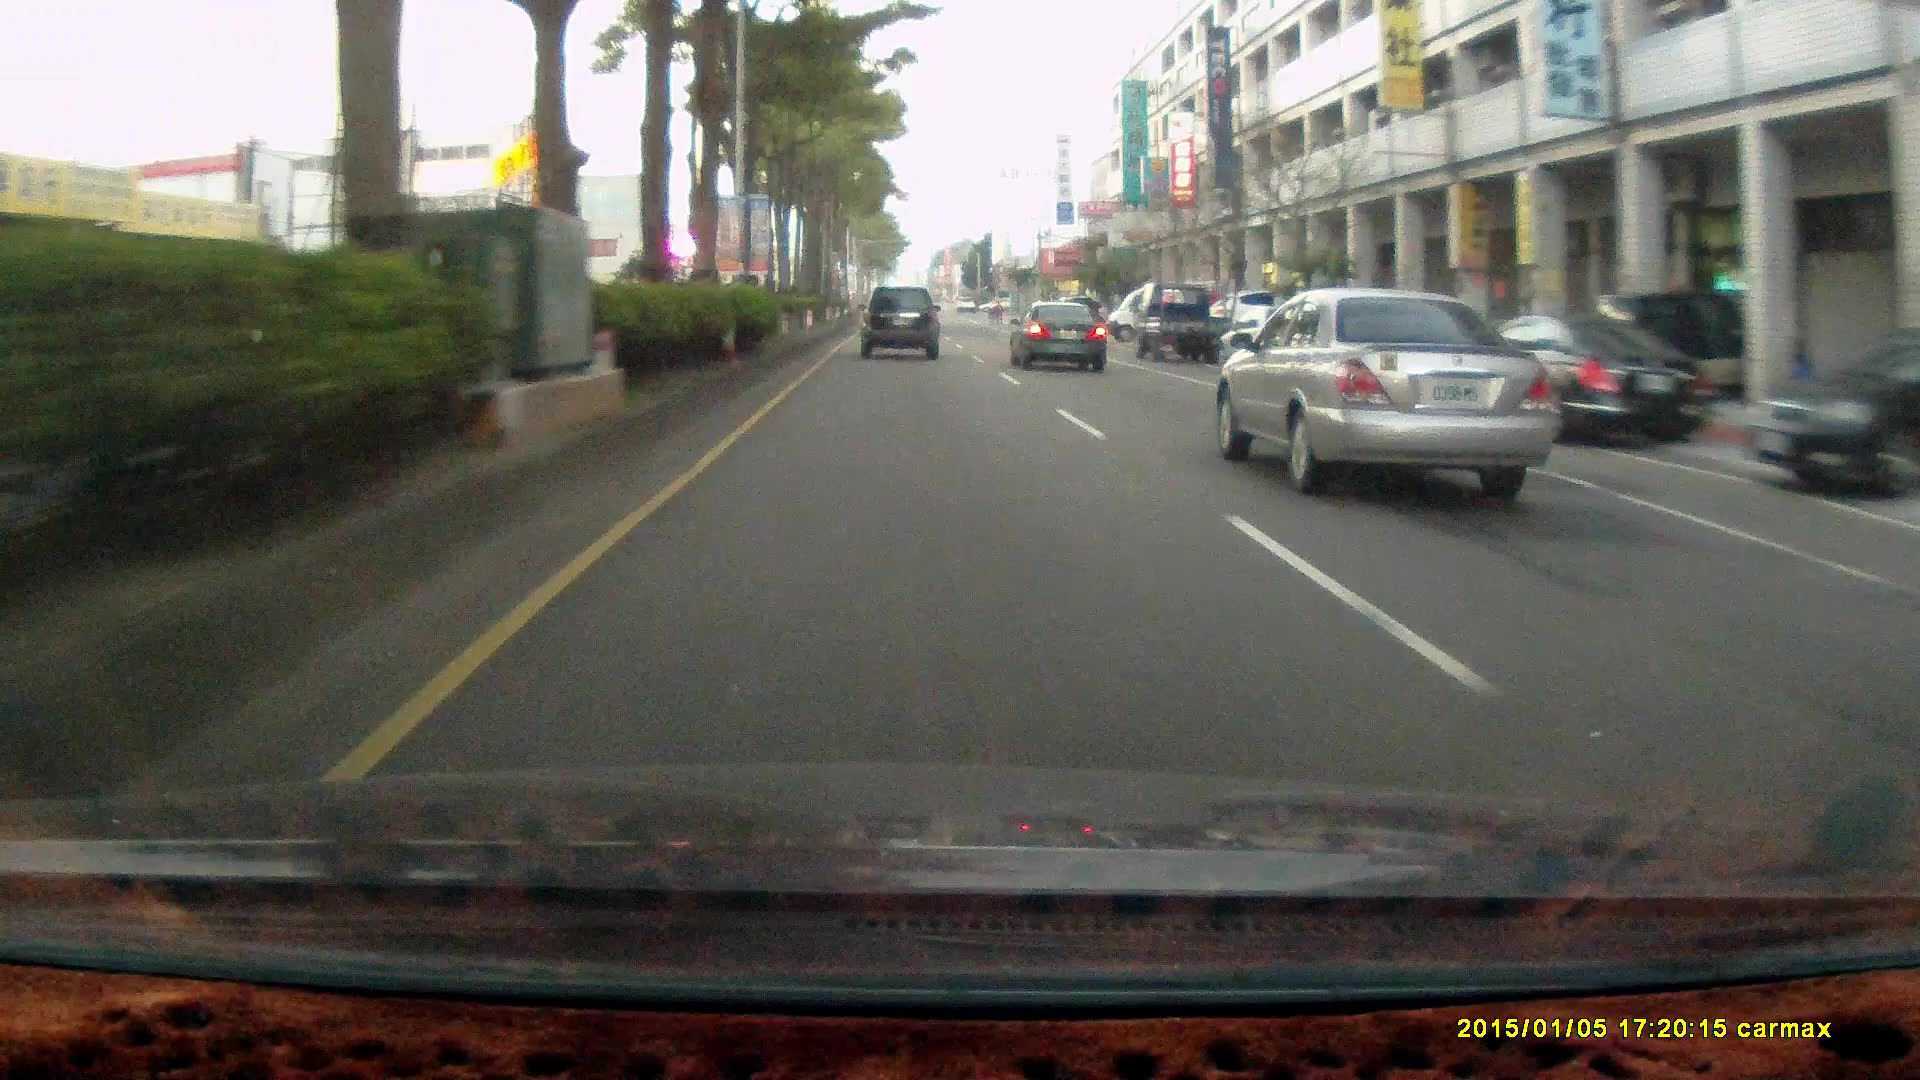vehicle: (1211, 286, 1548, 491), (1436, 306, 1705, 444), (1435, 307, 1704, 444), (1742, 320, 1920, 497), (1745, 323, 1920, 496), (1222, 299, 1352, 380), (1137, 280, 1245, 369), (1131, 278, 1230, 361), (1017, 297, 1116, 369), (1007, 298, 1105, 369), (1105, 284, 1215, 344), (858, 285, 943, 361), (858, 284, 940, 355)
